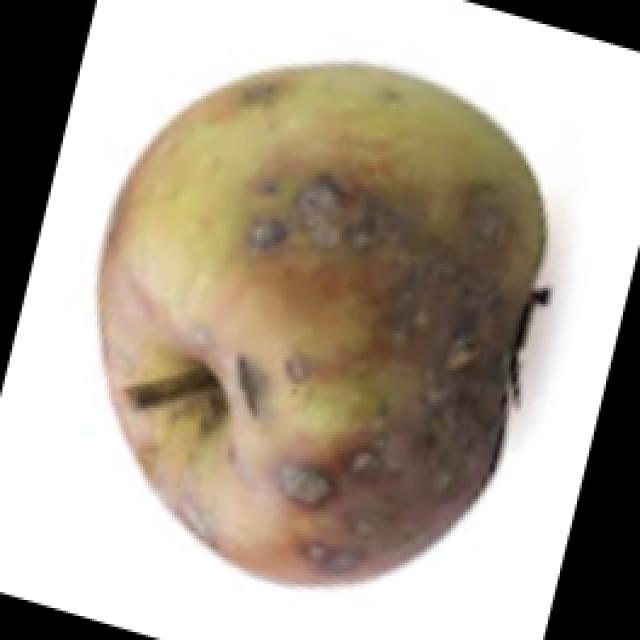Rotten: (111, 74, 552, 578)
